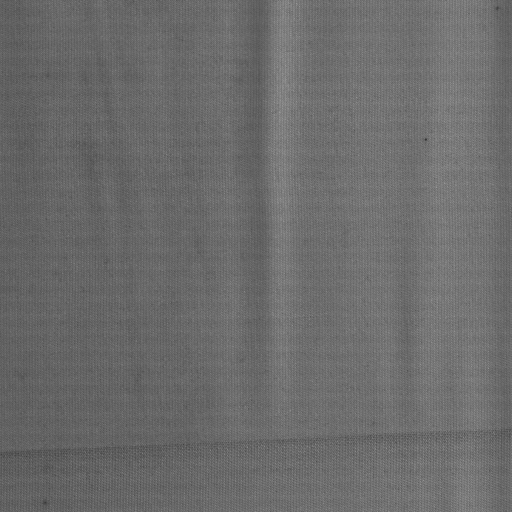defect: (1, 424, 512, 465)
